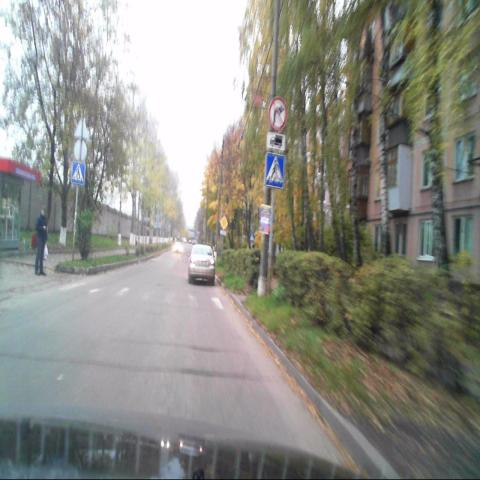8_4_1: (266, 132, 286, 151)
